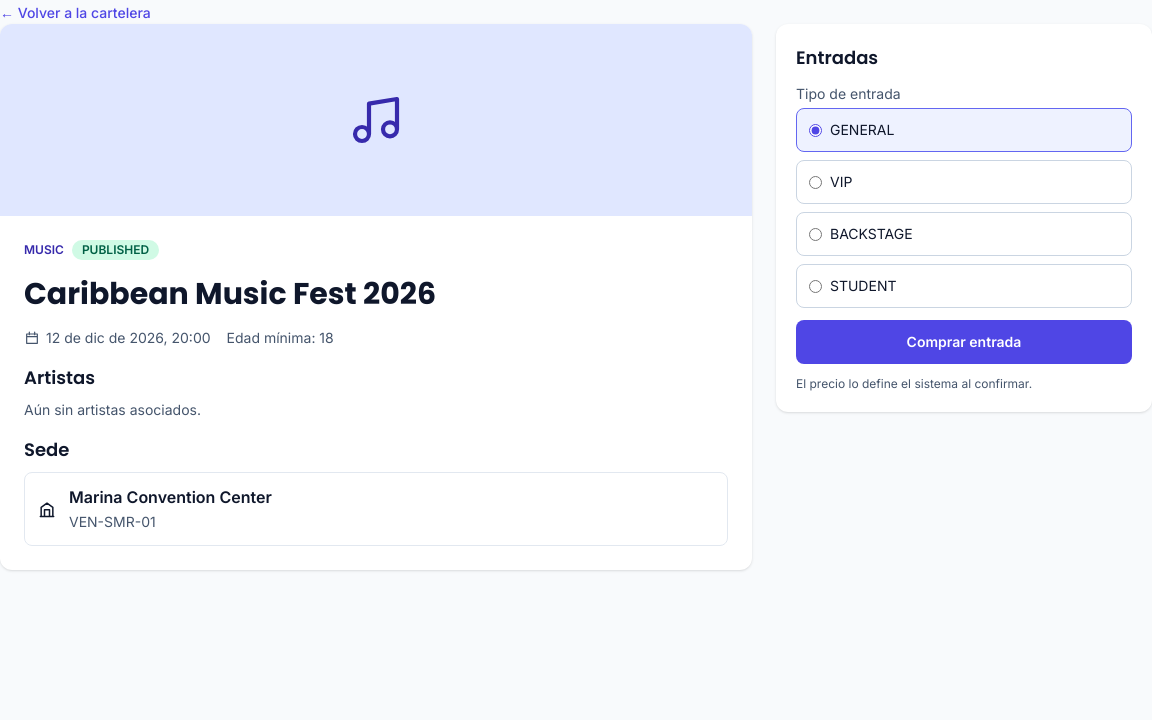
Test: compra › 409 → mensaje del backend dentro del modal, sin navegar
Click the button "Comprar entrada".
click(964, 342)  # box [796, 320, 1132, 364]
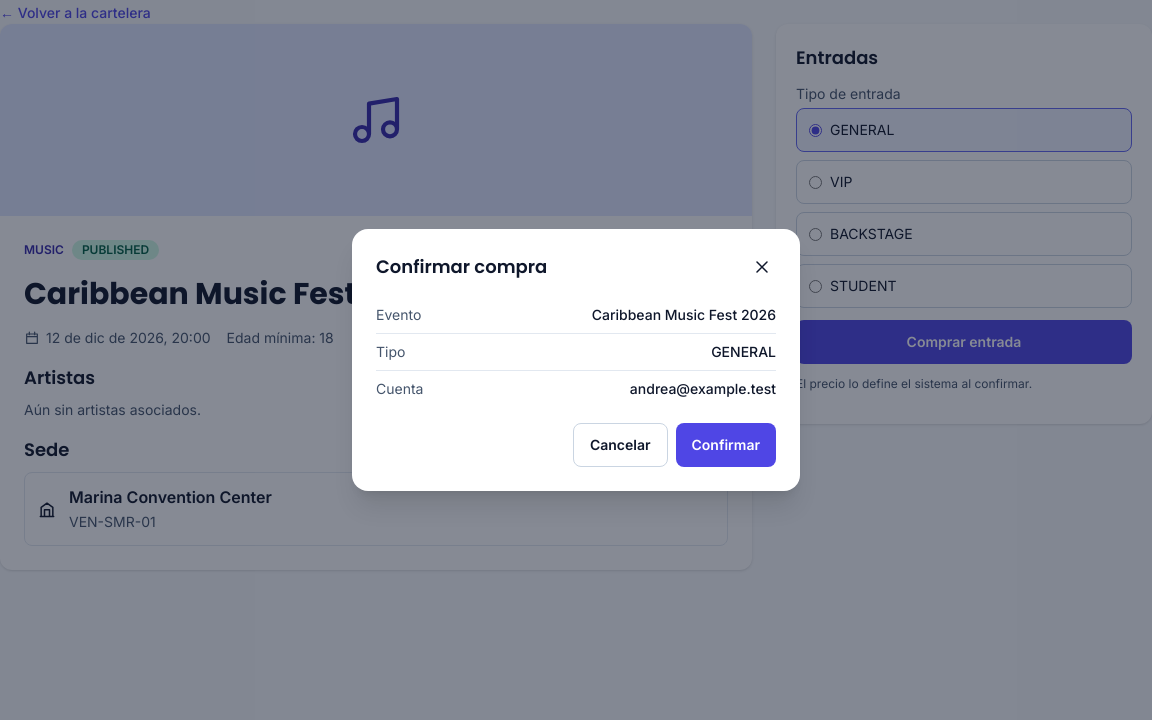
Click the button "Confirmar".
click(726, 445)  # box [676, 423, 776, 467]
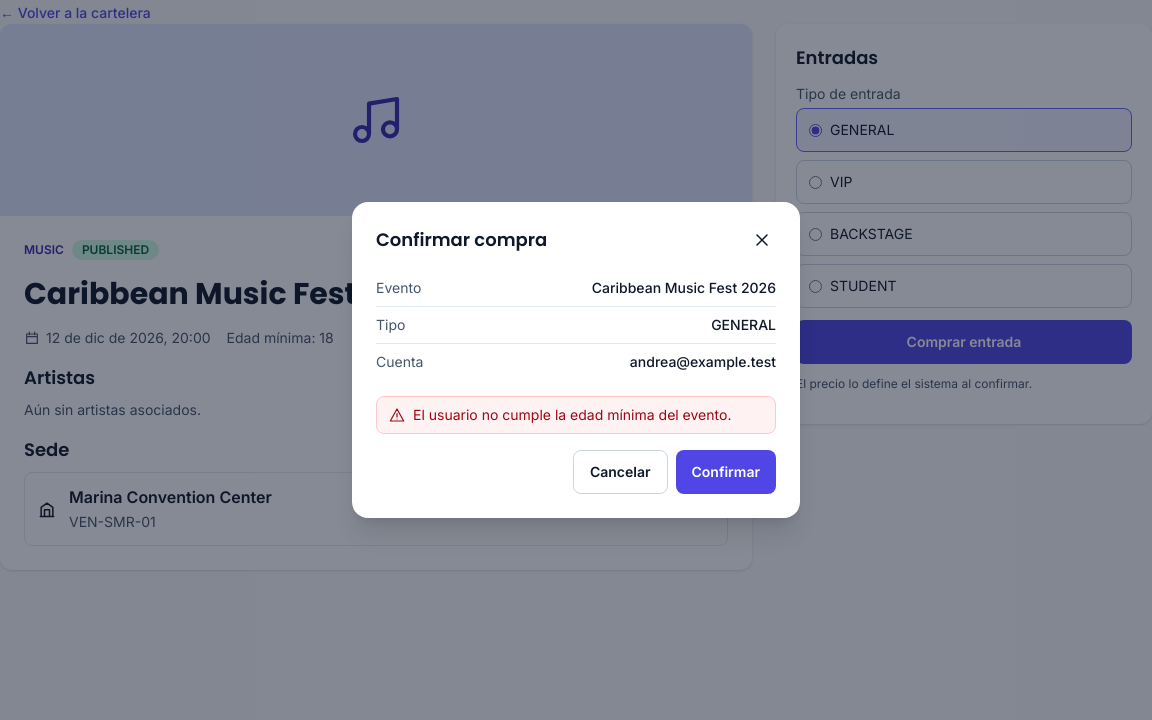
Check: the message reads "El usuario no cumple la edad mínima del evento.", box [413, 406, 731, 423]
